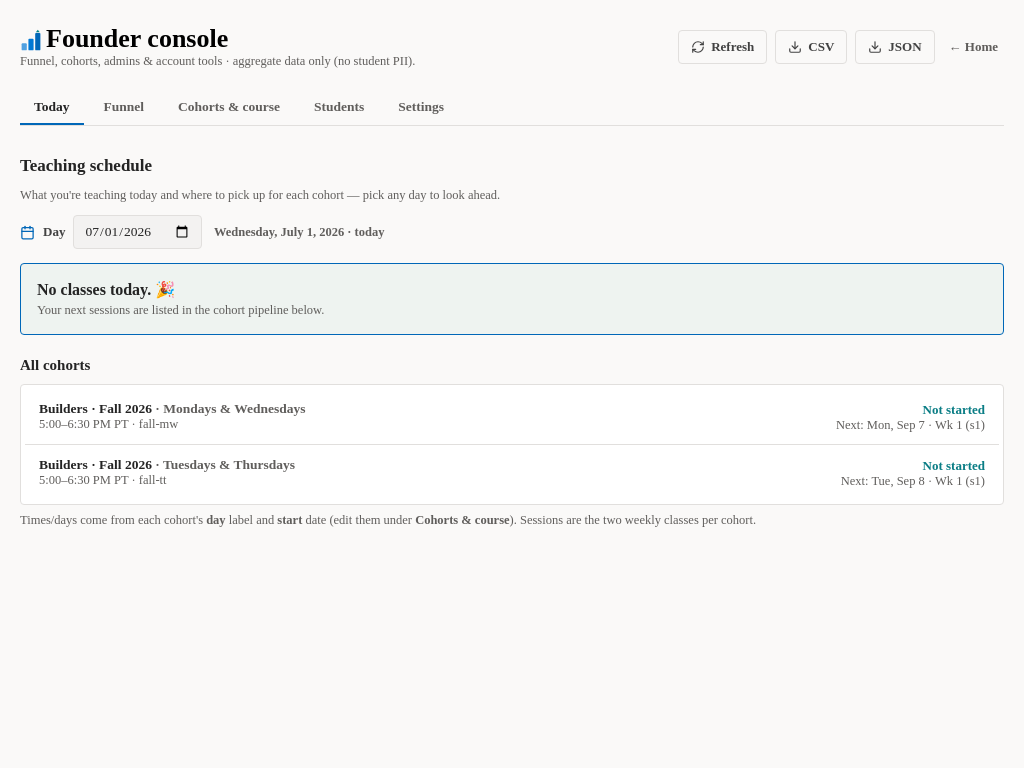
FounderDashboard (account-gated) › the Scholarship segment renders without crashing — Applied → Awarded view (SPECS/020)
This screenshot has width=1024, height=768.
Click the button "Funnel" at (124, 106), box [104, 99, 144, 114]
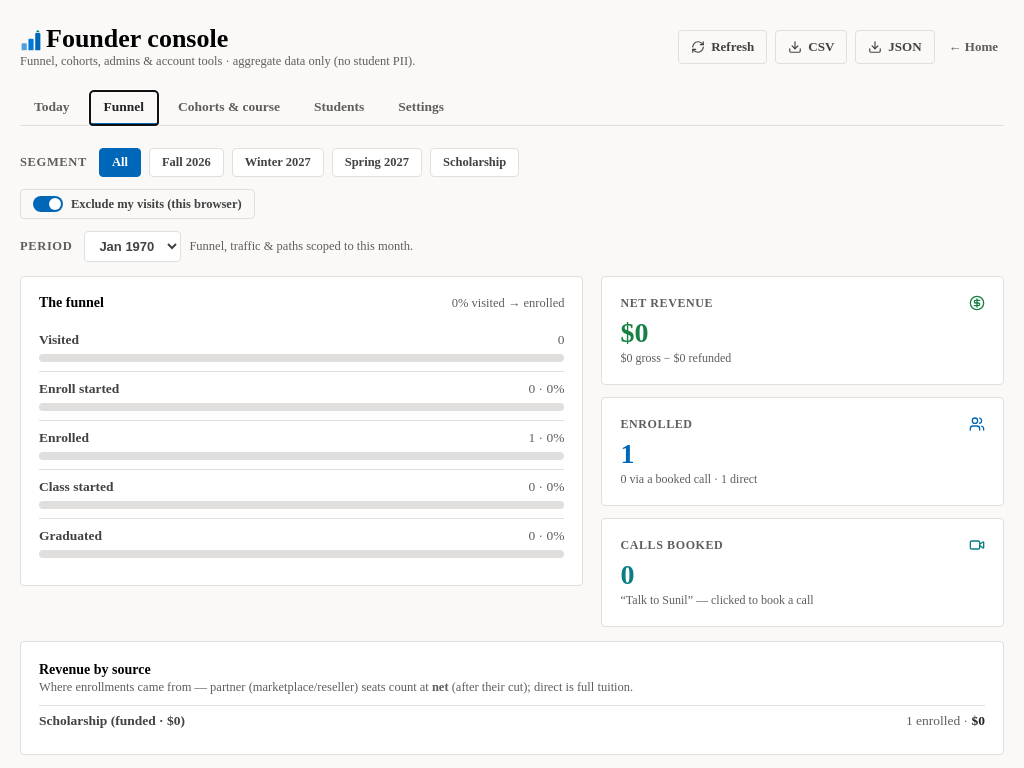
Result: the text "Segment" is shown at [20, 155, 87, 170]
Click the button "Scholarship" at (475, 162), box [430, 148, 519, 177]
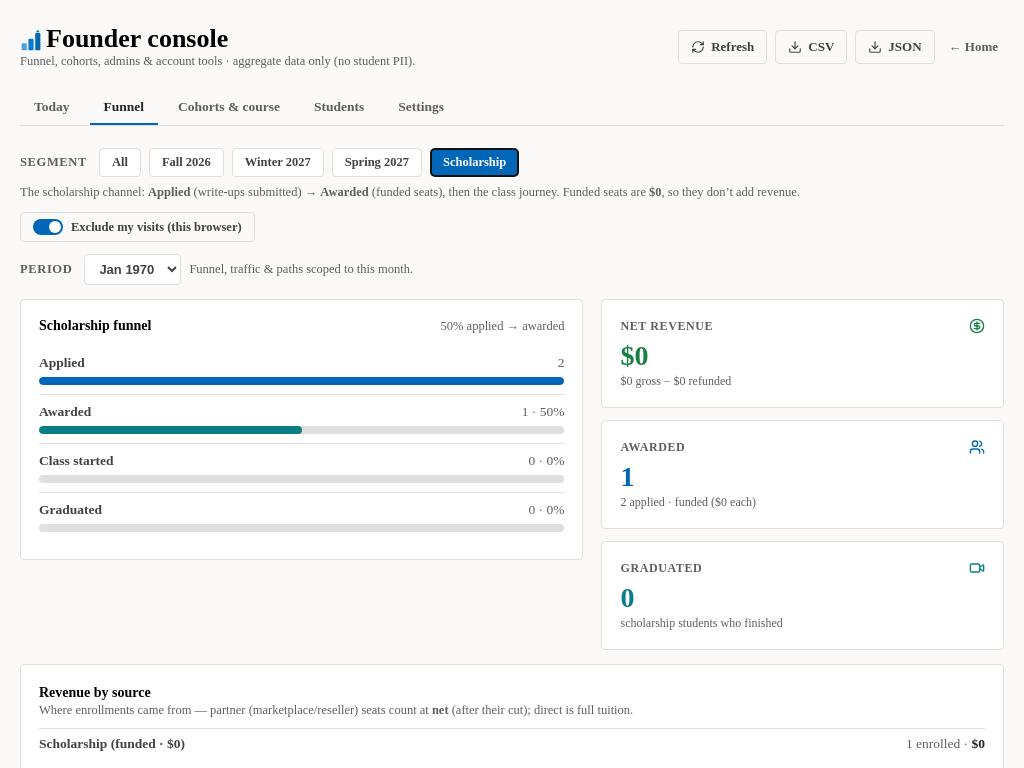
Result: the text "Scholarship funnel" is shown at [39, 318, 151, 334]
